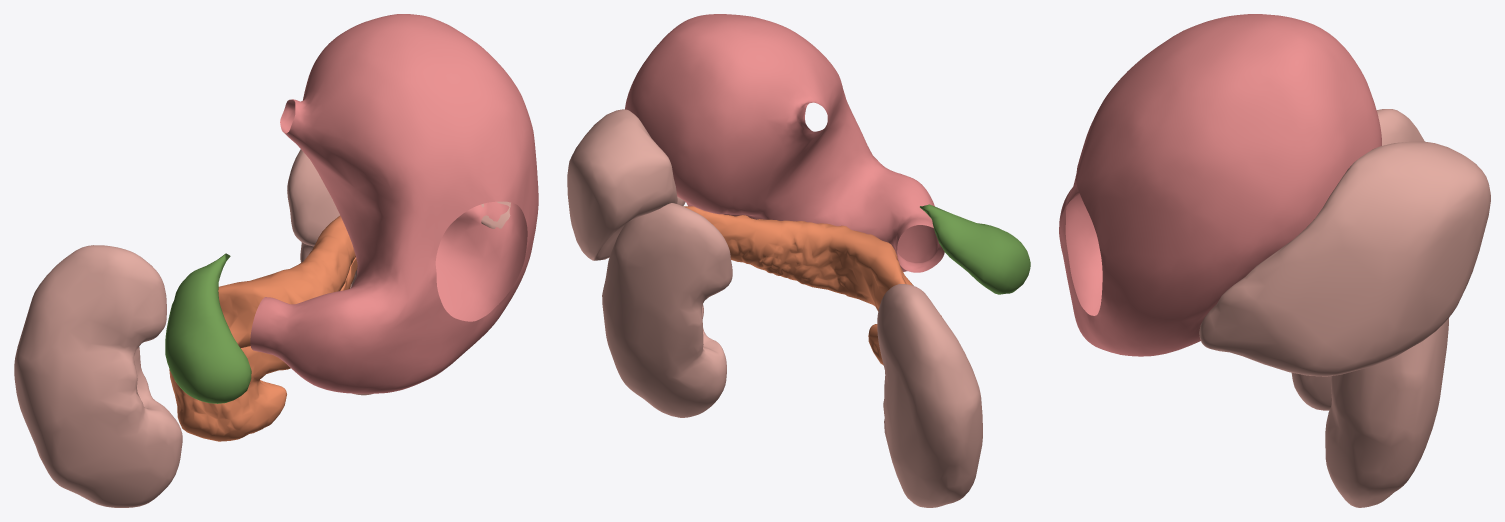
Rendered from abdomen.glb.
The picture shows the model from 3 angles, left to right: view 1: azimuth 30°, elevation 25°; view 2: azimuth 150°, elevation 25°; view 3: azimuth 270°, elevation 25°; orthographic projection. The views are drawn at different scales.
Parts seen in each view (by area): view 1: Stomach, Kidney.r, Pancreas, Gallbladder, Kidney.l; view 2: Stomach, Kidney.l, Kidney.r, Pancreas, Spleen, Gallbladder; view 3: Stomach, Spleen, Kidney.l, Kidney.r.
Boxes of the visible parts, x1,y1,x2,y2 form: Stomach: (250, 14, 538, 393); Kidney.r: (14, 245, 182, 507); Pancreas: (169, 215, 357, 441); Gallbladder: (165, 253, 251, 403); Kidney.l: (287, 149, 373, 395); Stomach: (625, 14, 944, 272); Kidney.l: (602, 203, 732, 417); Kidney.r: (877, 284, 982, 507); Pancreas: (683, 206, 941, 365); Spleen: (567, 109, 685, 260); Gallbladder: (920, 204, 1030, 294); Stomach: (1059, 14, 1381, 356); Spleen: (1199, 141, 1490, 376); Kidney.l: (1325, 317, 1449, 507); Kidney.r: (1291, 109, 1424, 410).
Bounding box in the file's own units: 0.2014 × 0.1875 × 0.1408.
